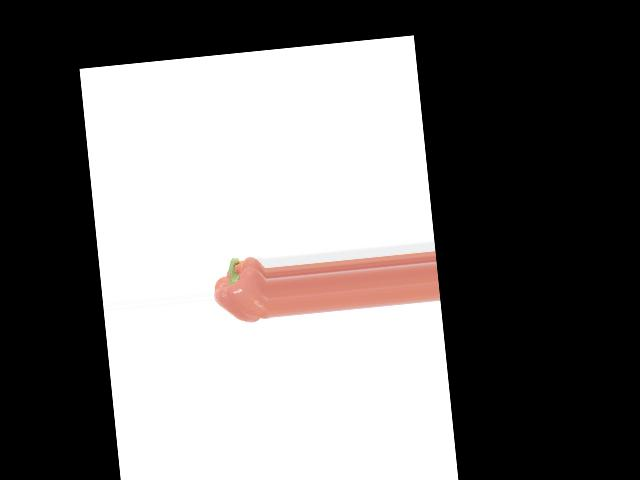bell_pepper: (209, 246, 271, 333)
